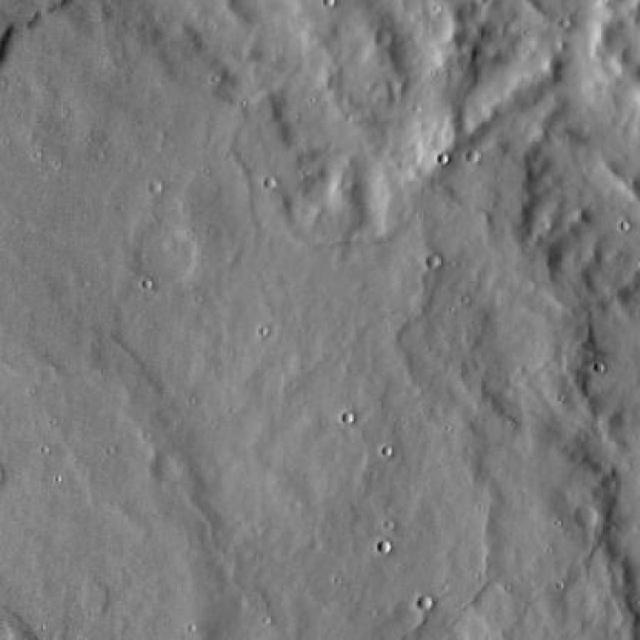crater: (136, 215, 201, 280), (579, 507, 604, 531), (0, 464, 11, 485)
